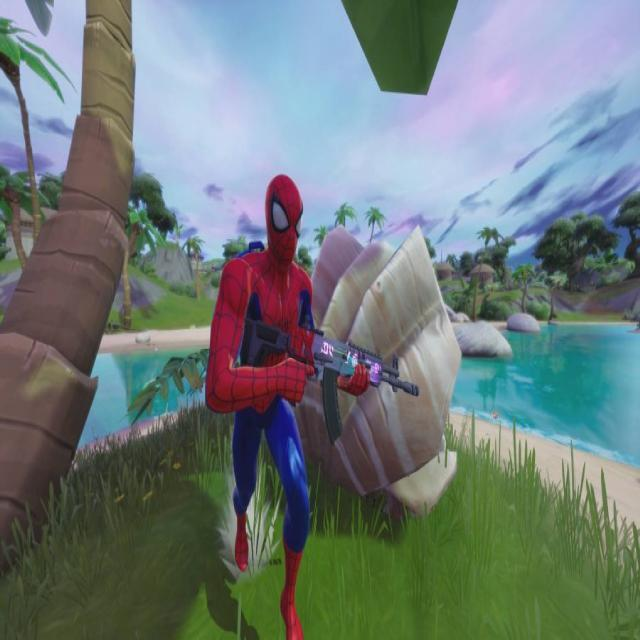weapon: (234, 312, 422, 444)
